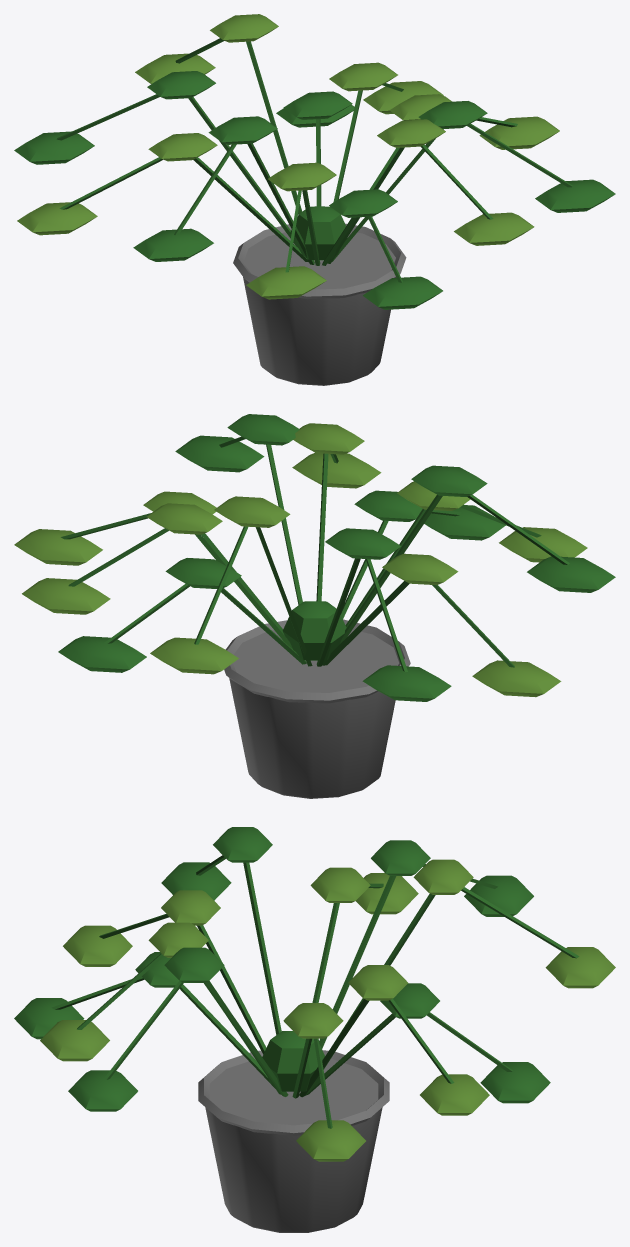
Rendered from plant_fern.glb.
3 views of the same model, one above another, from view 1: azimuth 30°, elevation 25°; view 2: azimuth 150°, elevation 25°; view 3: azimuth 270°, elevation 25° (orthographic). The views are drawn at different scales.
Parts seen in each view (by area): view 1: plant_fern; view 2: plant_fern; view 3: plant_fern.
Part boxes in pixels (x1,y1,x2,y2): plant_fern: [14, 14, 615, 385]; plant_fern: [14, 414, 615, 798]; plant_fern: [14, 827, 615, 1232].
Size of the model in its own units: 1.57 by 0.8761 by 1.44.
